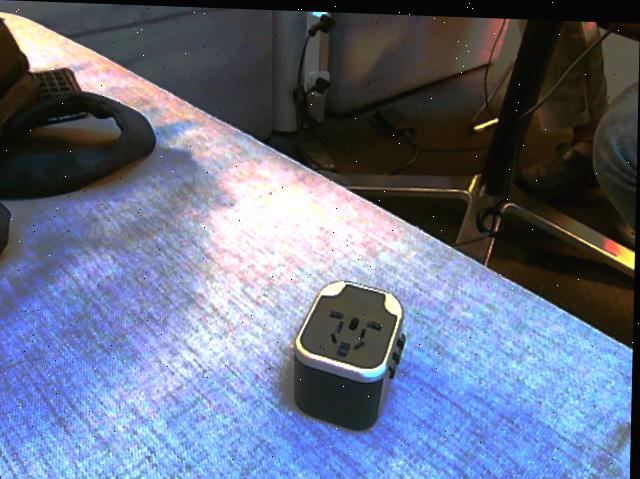adapter: (291, 275, 407, 429)
